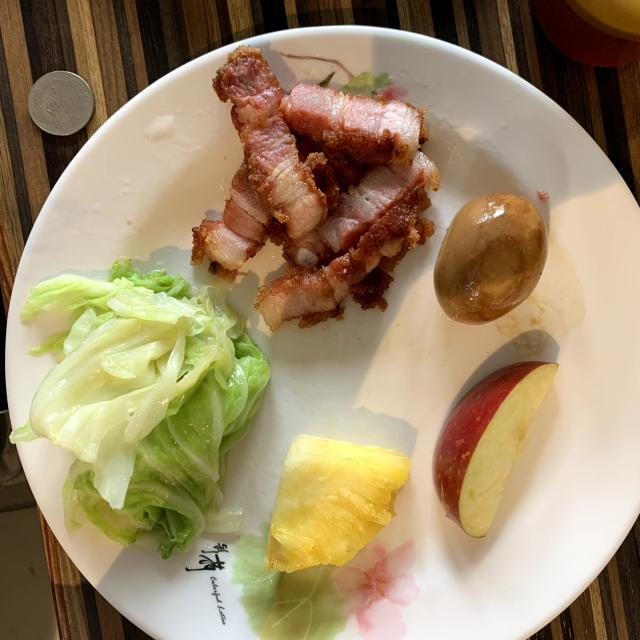apple -sliced-: (432, 361, 559, 538)
cabbage: (11, 262, 269, 558)
coin: (28, 71, 94, 136)
pineapple: (264, 435, 410, 572)
red grilled pork: (192, 46, 440, 329)
soy egg: (434, 194, 548, 324)
